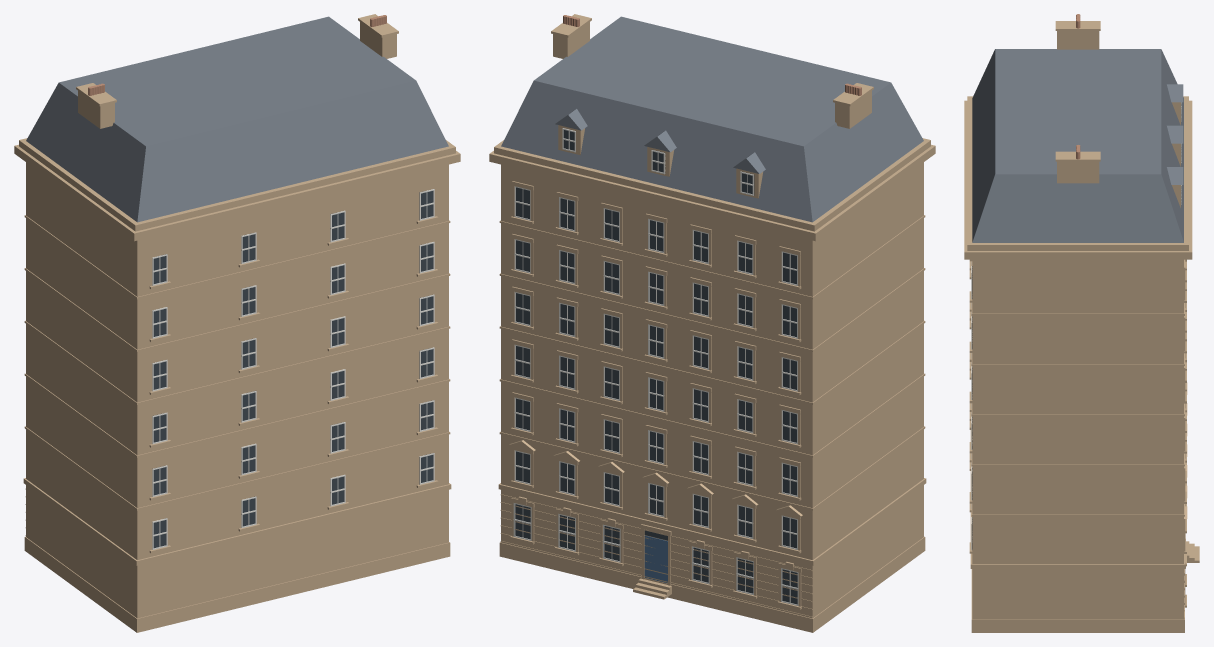
File: classical7.glb
3 renders of one model, left to right at view 1: azimuth 30°, elevation 25°; view 2: azimuth 150°, elevation 25°; view 3: azimuth 270°, elevation 25°, orthographic. The views are drawn at different scales.
Parts seen in each view (by area): view 1: classical7; view 2: classical7; view 3: classical7.
Boxes of the visible parts, x1,y1,x2,y2 form: classical7: [14, 14, 460, 632]; classical7: [489, 14, 935, 632]; classical7: [964, 14, 1199, 632].
Bounding box in the file's own units: 22 × 32.32 × 14.46.
